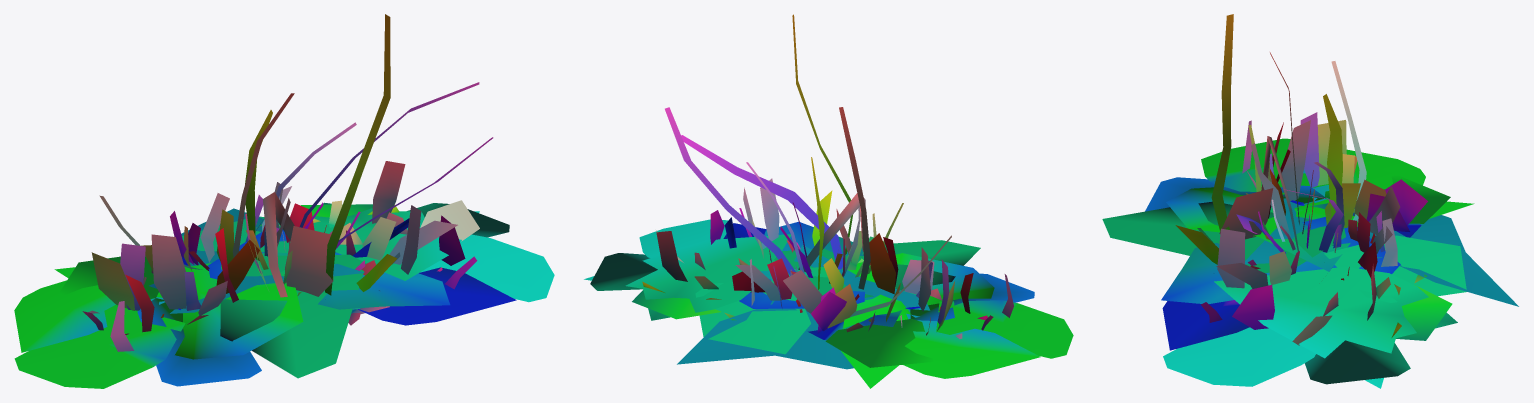
Rendered from Wild_Grass_vdilbaiia_Mid_vdilbaiia_VarB_LOD2.fbx.
3 renders of one model, left to right at view 1: azimuth 30°, elevation 25°; view 2: azimuth 150°, elevation 25°; view 3: azimuth 270°, elevation 25°, orthographic. The views are drawn at different scales.
Parts seen in each view (by area): view 1: _uq3t_VarB_LOD3; view 2: _uq3t_VarB_LOD3; view 3: _uq3t_VarB_LOD3.
Part boxes in pixels (x1,y1,x2,y2): _uq3t_VarB_LOD3: [14, 14, 554, 388]; _uq3t_VarB_LOD3: [584, 14, 1073, 388]; _uq3t_VarB_LOD3: [1102, 14, 1518, 388].
Bounding box in the file's own units: 87.72 × 48.56 × 61.79.
